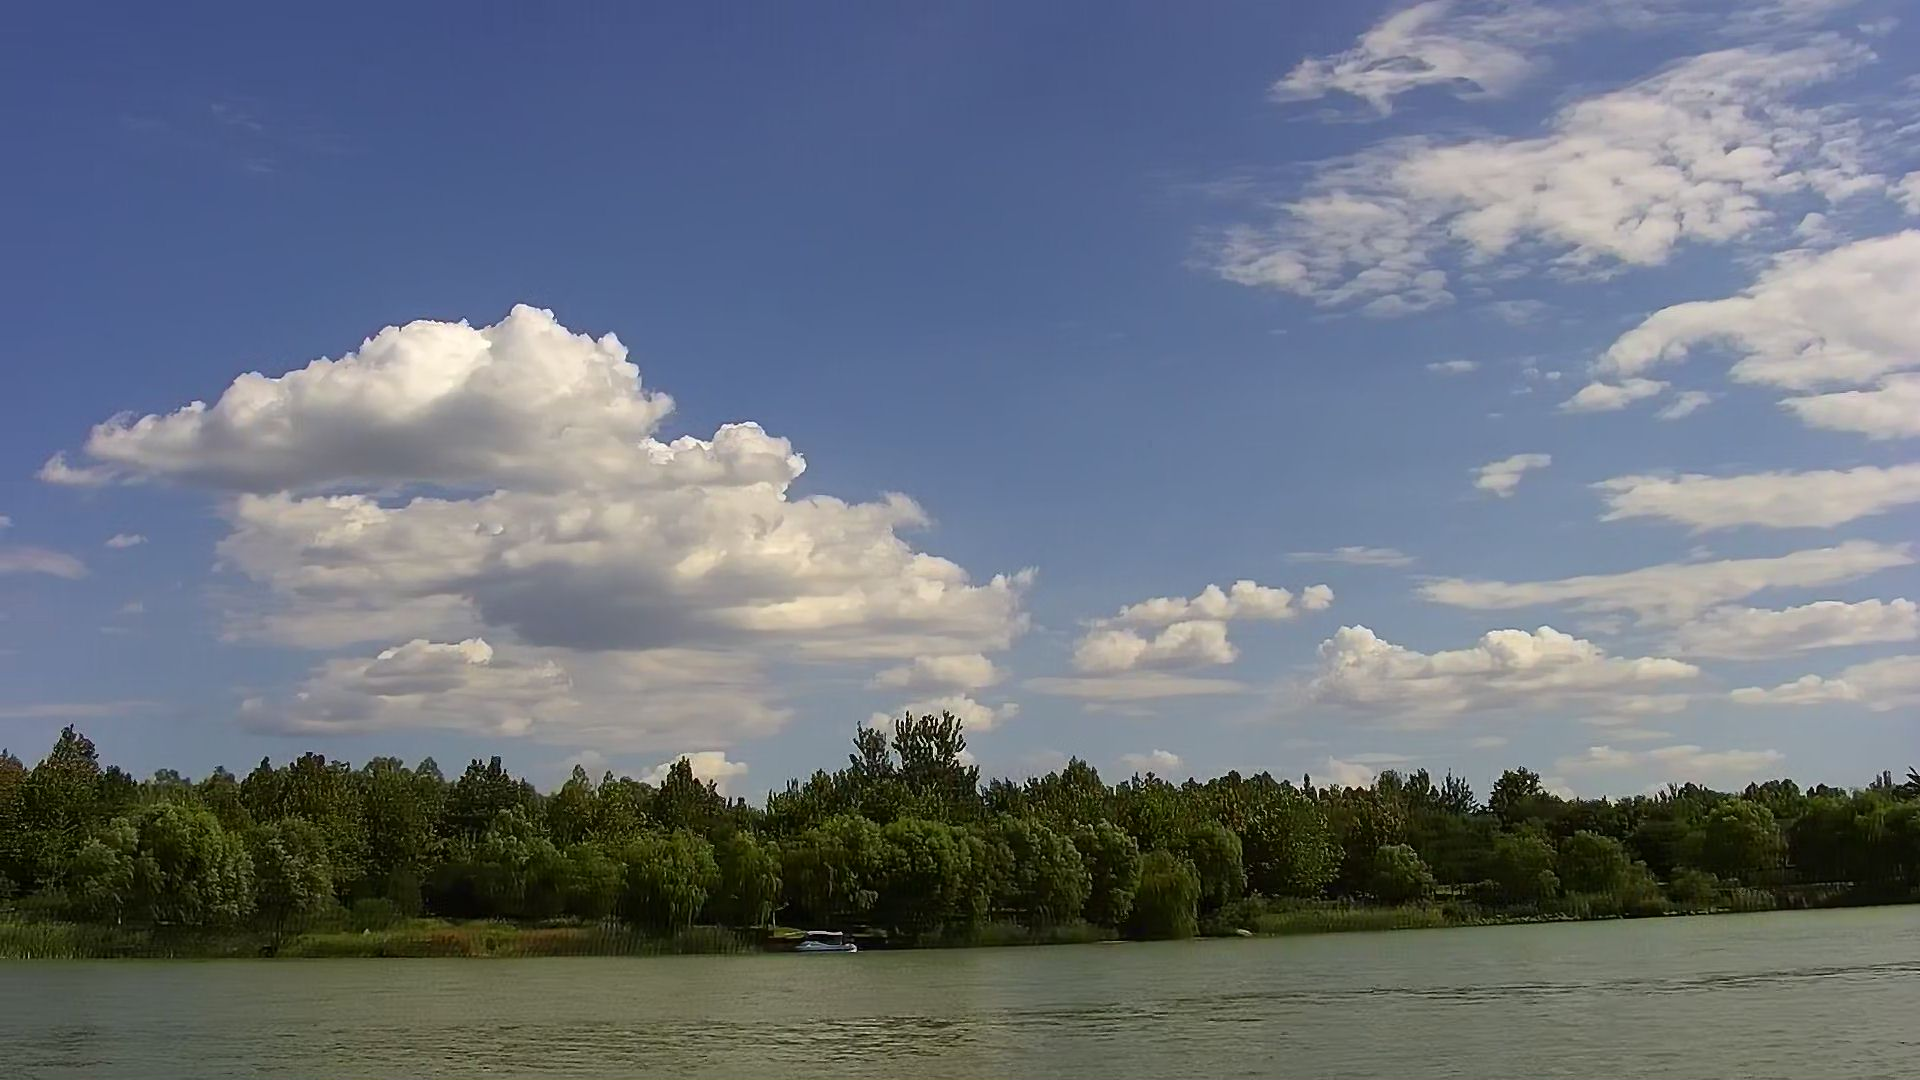boat: (796, 928, 855, 957)
